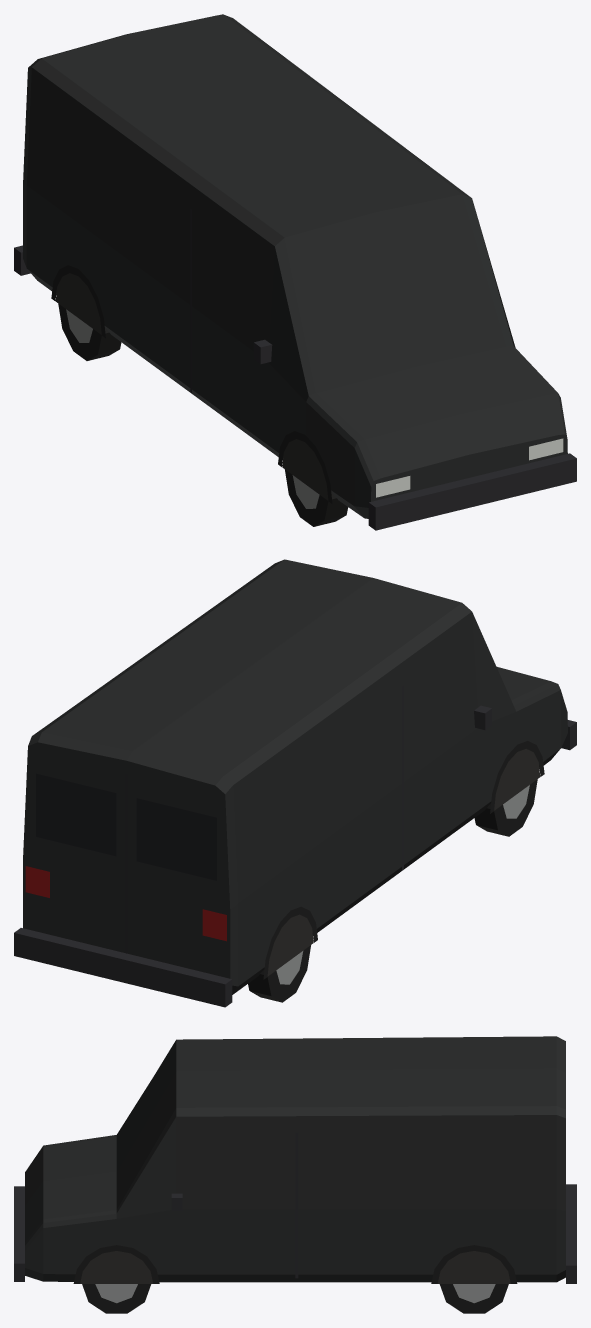
File: town_van 2.gltf
3 renders of one model, top to bottom at view 1: azimuth 30°, elevation 25°; view 2: azimuth 150°, elevation 25°; view 3: azimuth 270°, elevation 25°, orthographic. The views are drawn at different scales.
Visible parts, largest first — view 1: TownVan_Body, TownVan_Bumpers, TownVan_Arches, TownVan_Tyres, TownVan_Headlights, TownVan_Rims; view 2: TownVan_Body, TownVan_RearGlass, TownVan_Bumpers, TownVan_Arches, TownVan_Tyres, TownVan_Taillights, TownVan_Rims, TownVan_Seams; view 3: TownVan_Body, TownVan_Arches, TownVan_Bumpers, TownVan_Tyres, TownVan_Rims, TownVan_Seams.
Part boxes in pixels (x1,y1,x2,y2): TownVan_Body: (23, 14, 567, 518); TownVan_Bumpers: (14, 245, 576, 530); TownVan_Arches: (51, 265, 332, 503); TownVan_Tyres: (58, 303, 348, 526); TownVan_Headlights: (376, 438, 563, 497); TownVan_Rims: (66, 309, 319, 508); TownVan_Body: (23, 559, 567, 994); TownVan_RearGlass: (36, 773, 216, 880); TownVan_Bumpers: (14, 720, 576, 1007); TownVan_Arches: (263, 741, 544, 979); TownVan_Tyres: (248, 779, 537, 1002); TownVan_Taillights: (25, 866, 226, 941); TownVan_Rims: (276, 785, 529, 984); TownVan_Seams: (125, 685, 403, 953); TownVan_Body: (25, 1036, 565, 1282); TownVan_Arches: (73, 1245, 517, 1283); TownVan_Bumpers: (14, 1184, 576, 1283); TownVan_Tyres: (82, 1284, 508, 1313); TownVan_Rims: (95, 1284, 495, 1303); TownVan_Seams: (295, 1132, 298, 1278).
Size of what is drawn, in the model's own units: 2.3 by 2.46 by 6.14.
Materials: 1 (1 with a texture image).
